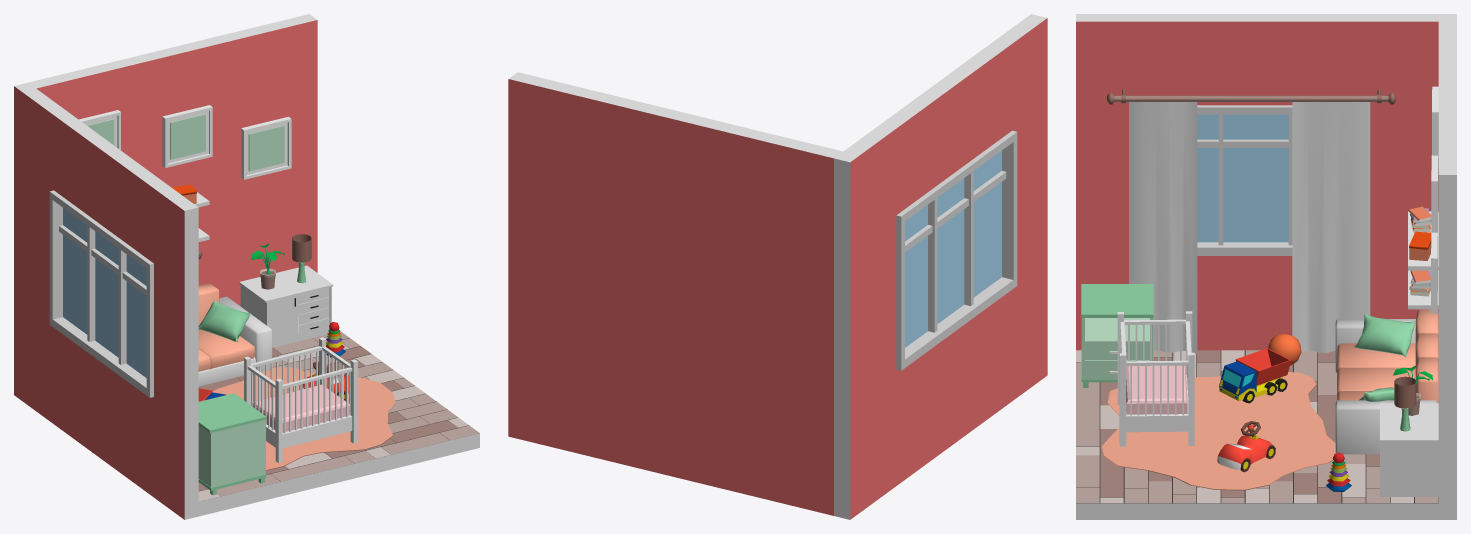
The model's file is room_24.glb.
The picture shows the model from 3 angles, left to right: view 1: azimuth 30°, elevation 25°; view 2: azimuth 150°, elevation 25°; view 3: azimuth 270°, elevation 25°; orthographic projection. The views are drawn at different scales.
Parts seen in each view (by area): view 1: Walls_133.001, Walls_133.003, window_007.002, Walls_133.002, Walls_133.004, floor_018.004, Walls_133.005, shelf_064.001, picture_061.001, shelf_063.001, sofa_031.001, Walls_011.012 (+4 smaller); view 2: Walls_133.001, Walls_133.002, window_007.002, Walls_133.003, Walls_133.004, Walls_133.005; view 3: Curtains_020.005, Walls_133.005, Walls_133.002, Walls_133.003, floor_018.004, Curtains_020.006, carpet_008.002, window_007.002, sofa_031.001, Walls_133.001, Walls_133.004, shelf_064.001 (+15 smaller).
Part boxes in pixels (bbox=[...]): Walls_133.001: bbox=[28, 14, 317, 306]; Walls_133.003: bbox=[152, 184, 198, 519]; window_007.002: bbox=[49, 190, 153, 397]; Walls_133.002: bbox=[14, 82, 67, 424]; Walls_133.004: bbox=[54, 328, 151, 495]; floor_018.004: bbox=[198, 331, 479, 501]; Walls_133.005: bbox=[54, 112, 165, 261]; shelf_064.001: bbox=[244, 337, 357, 462]; picture_061.001: bbox=[79, 105, 291, 179]; shelf_063.001: bbox=[198, 393, 266, 495]; sofa_031.001: bbox=[198, 283, 272, 386]; Walls_011.012: bbox=[198, 338, 479, 516]; Walls_133.001: bbox=[508, 72, 842, 515]; Walls_133.002: bbox=[834, 124, 897, 519]; window_007.002: bbox=[896, 130, 1017, 370]; Walls_133.003: bbox=[994, 14, 1047, 402]; Walls_133.004: bbox=[897, 291, 1009, 484]; Walls_133.005: bbox=[881, 41, 1009, 214]; Curtains_020.005: bbox=[1292, 102, 1370, 352]; Walls_133.005: bbox=[1148, 14, 1366, 105]; Walls_133.002: bbox=[1366, 14, 1456, 318]; Walls_133.003: bbox=[1076, 14, 1148, 350]; floor_018.004: bbox=[1076, 350, 1438, 503]; Curtains_020.006: bbox=[1129, 102, 1197, 353]; carpet_008.002: bbox=[1102, 372, 1336, 490]; window_007.002: bbox=[1197, 105, 1292, 255]; sofa_031.001: bbox=[1335, 309, 1438, 454]; Walls_133.001: bbox=[1438, 21, 1456, 519]; Walls_133.004: bbox=[1197, 256, 1292, 350]; shelf_064.001: bbox=[1117, 311, 1194, 446].
Bounding box in the file's own units: 4.26 × 4.2 × 4.2.
Materials: 1 (1 with a texture image).
